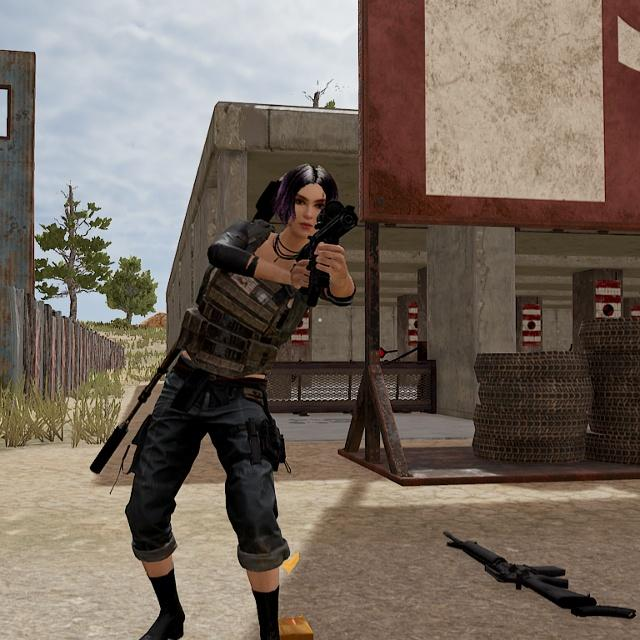head: (270, 155, 345, 247)
people: (115, 154, 348, 640)
